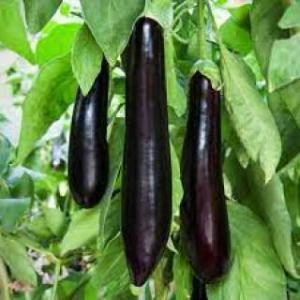eggplant: (121, 12, 171, 282), (185, 57, 231, 281), (69, 50, 113, 208)
